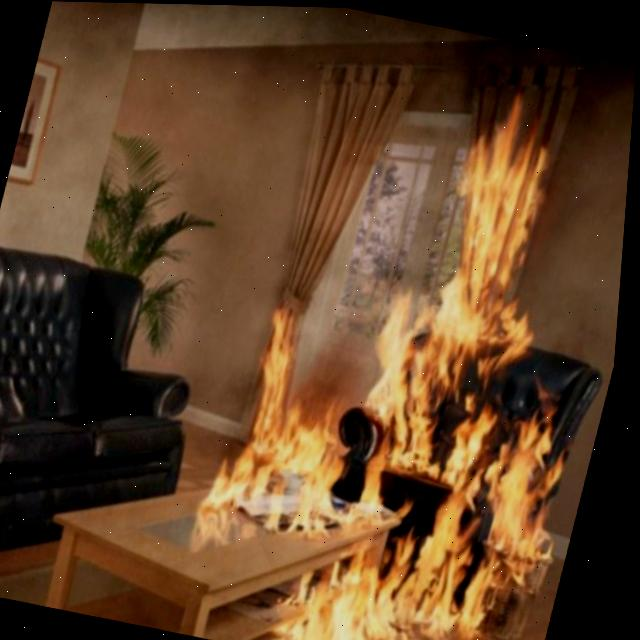fire: (200, 64, 576, 640)
smoke: (0, 1, 637, 533)
